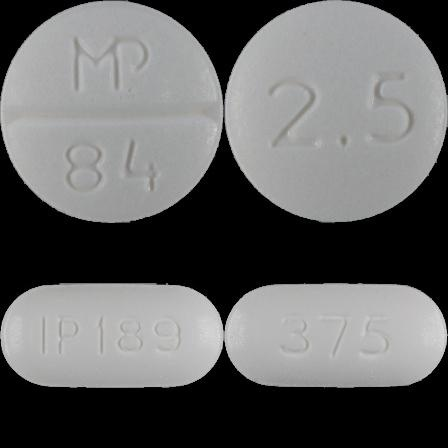53808-0734: (0, 0, 224, 224)
